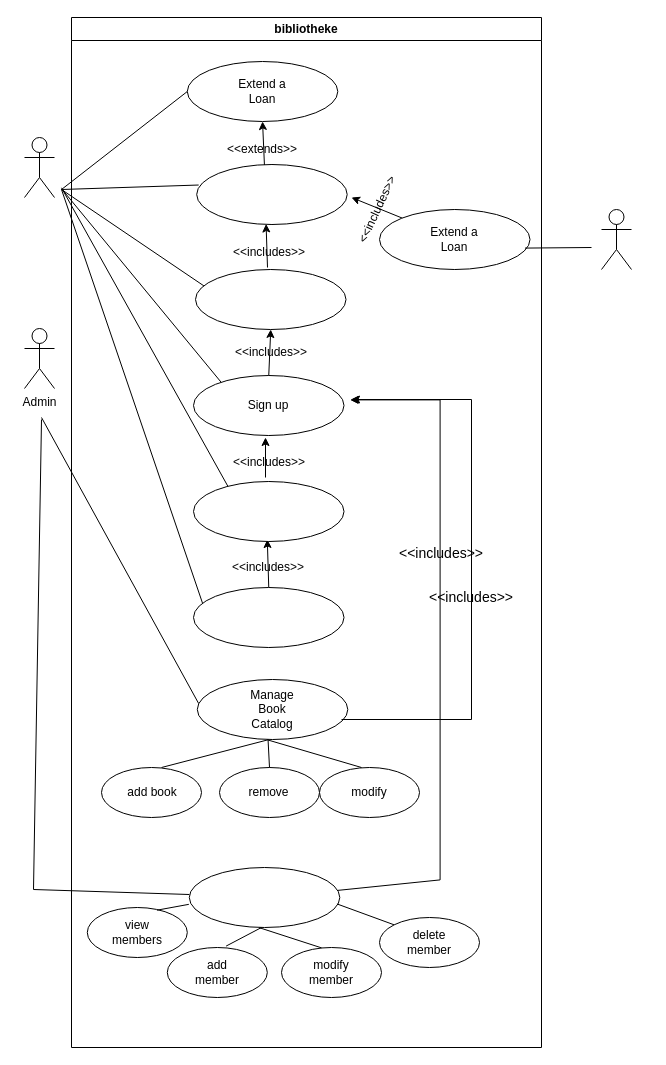
This 666x1065 diagram has some shape labels left out. The shapes that lost their labels are listed below. From the top down, each one's centre as x and y in pixels, then its label:
At (x=39, y=167): "Member".
At (x=271, y=194): "Borrow a Book".
At (x=616, y=239): "Mail System".
At (x=270, y=299): "Search for Books".
At (x=268, y=511): "Return a book".
At (x=268, y=617): "View Loan History".
At (x=264, y=897): "Manage Member Accounts".
